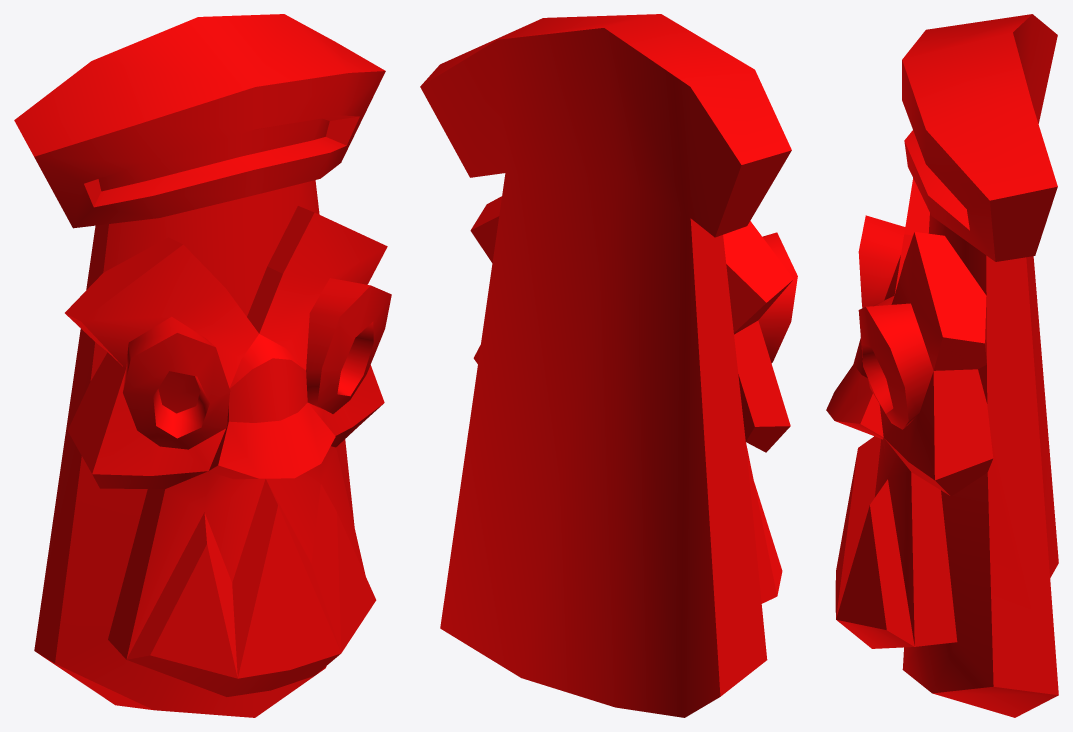
The model's file is tikiMask.fbx.
3 views of the same model, side by side, from view 1: azimuth 30°, elevation 25°; view 2: azimuth 150°, elevation 25°; view 3: azimuth 270°, elevation 25° (orthographic). The views are drawn at different scales.
Visible parts, largest first — view 1: tikiMask; view 2: tikiMask; view 3: tikiMask.
Part boxes in pixels (x1,y1,x2,y2): tikiMask: (14,14,391,717); tikiMask: (420,14,797,717); tikiMask: (826,14,1058,717).
Bounding box in the file's own units: 0.9246 × 1.73 × 0.5479.
